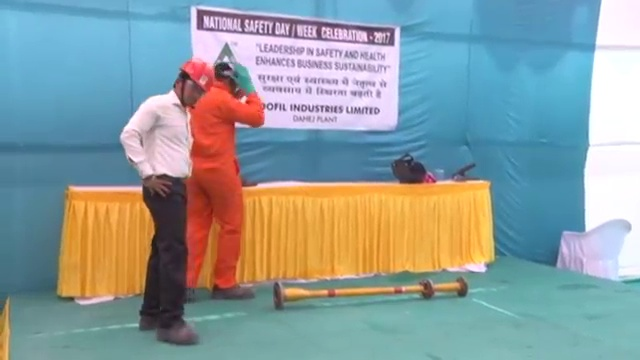helmet: (180, 58, 215, 92)
helmet_off: (212, 60, 245, 94)
helmet_on: (169, 56, 216, 107)
person: (113, 55, 213, 349), (184, 53, 259, 301)
